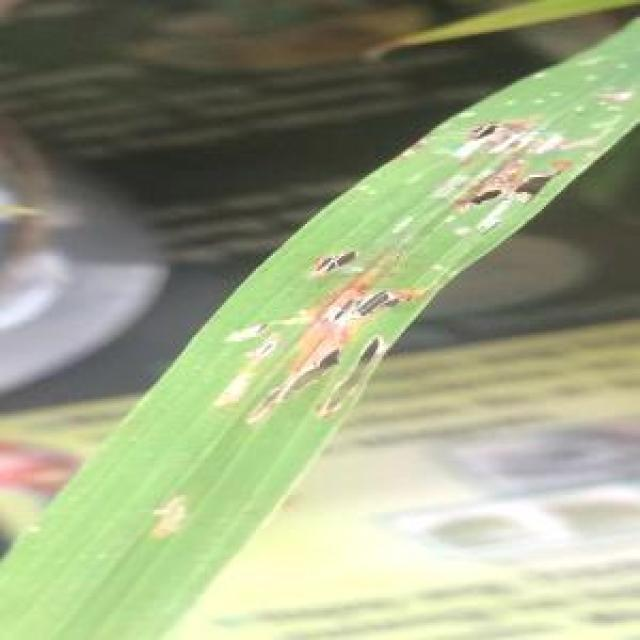Rice_Blast: (318, 334, 416, 420), (298, 222, 372, 292), (506, 157, 572, 230), (138, 495, 208, 557), (224, 305, 288, 358), (448, 164, 510, 213), (467, 106, 529, 152)
